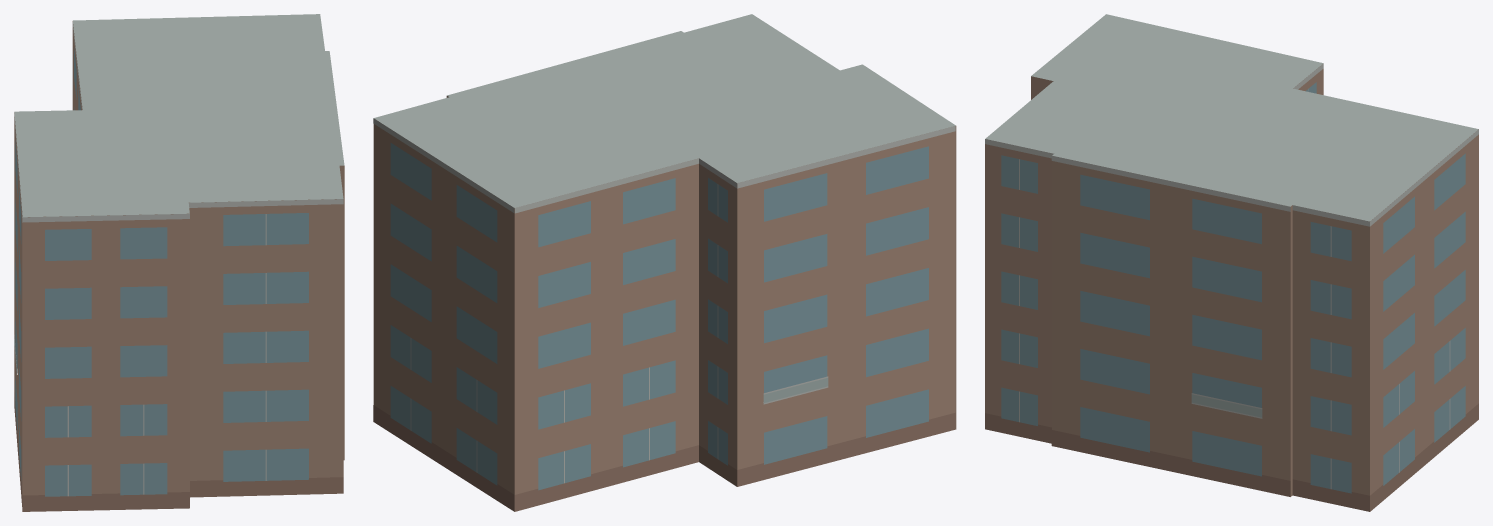
Rendered from survey-upis-32660298.glb.
The picture shows the model from 3 angles, left to right: view 1: azimuth 30°, elevation 25°; view 2: azimuth 150°, elevation 25°; view 3: azimuth 270°, elevation 25°; orthographic projection. The views are drawn at different scales.
Visible parts, largest first — view 1: survey-upis-32660298.tmp; view 2: survey-upis-32660298.tmp; view 3: survey-upis-32660298.tmp.
Boxes of the visible parts, box(x1,y1,x2,y2) form: survey-upis-32660298.tmp: box(14, 14, 344, 511); survey-upis-32660298.tmp: box(373, 14, 956, 511); survey-upis-32660298.tmp: box(985, 14, 1478, 511).
Size of the model in its own units: 20.93 by 13.65 by 21.05.
